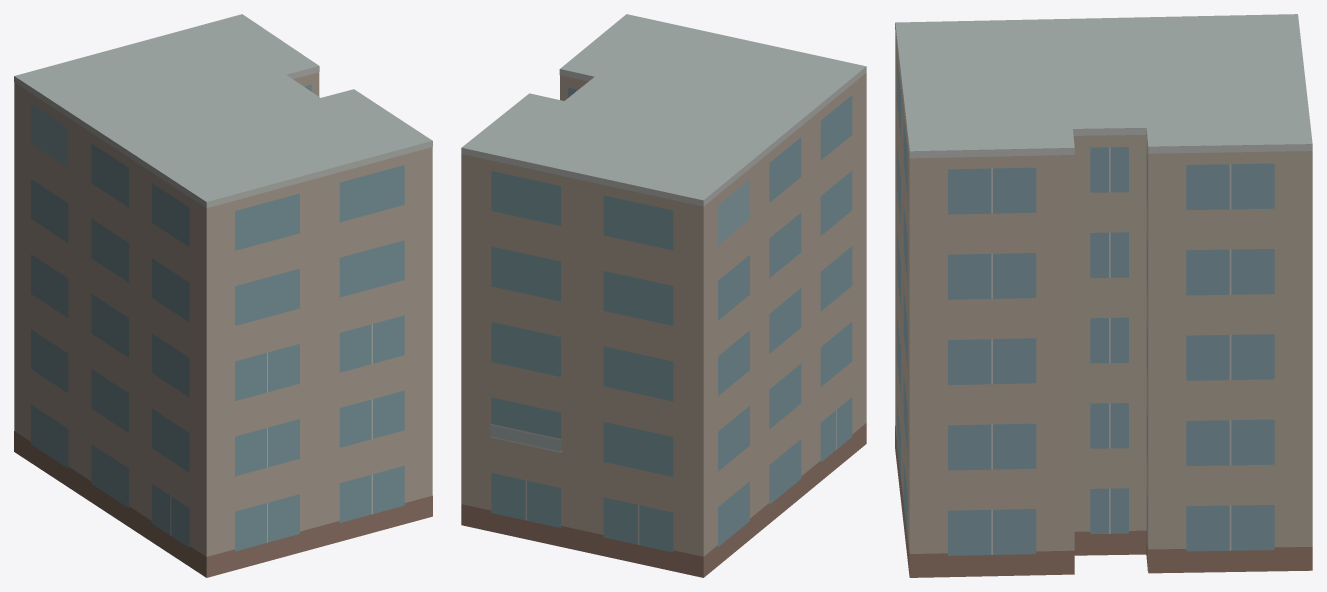
Rendered from survey-upis-33046367.glb.
The picture shows the model from 3 angles, left to right: view 1: azimuth 30°, elevation 25°; view 2: azimuth 150°, elevation 25°; view 3: azimuth 270°, elevation 25°; orthographic projection. The views are drawn at different scales.
Parts seen in each view (by area): view 1: survey-upis-33046367.tmp; view 2: survey-upis-33046367.tmp; view 3: survey-upis-33046367.tmp.
Part boxes in pixels (x1=…): survey-upis-33046367.tmp: x1=14, y1=14, x2=432, y2=577; survey-upis-33046367.tmp: x1=461, y1=14, x2=866, y2=577; survey-upis-33046367.tmp: x1=895, y1=14, x2=1312, y2=577.
Size of the model in its own units: 10.18 by 14.75 by 13.09.
